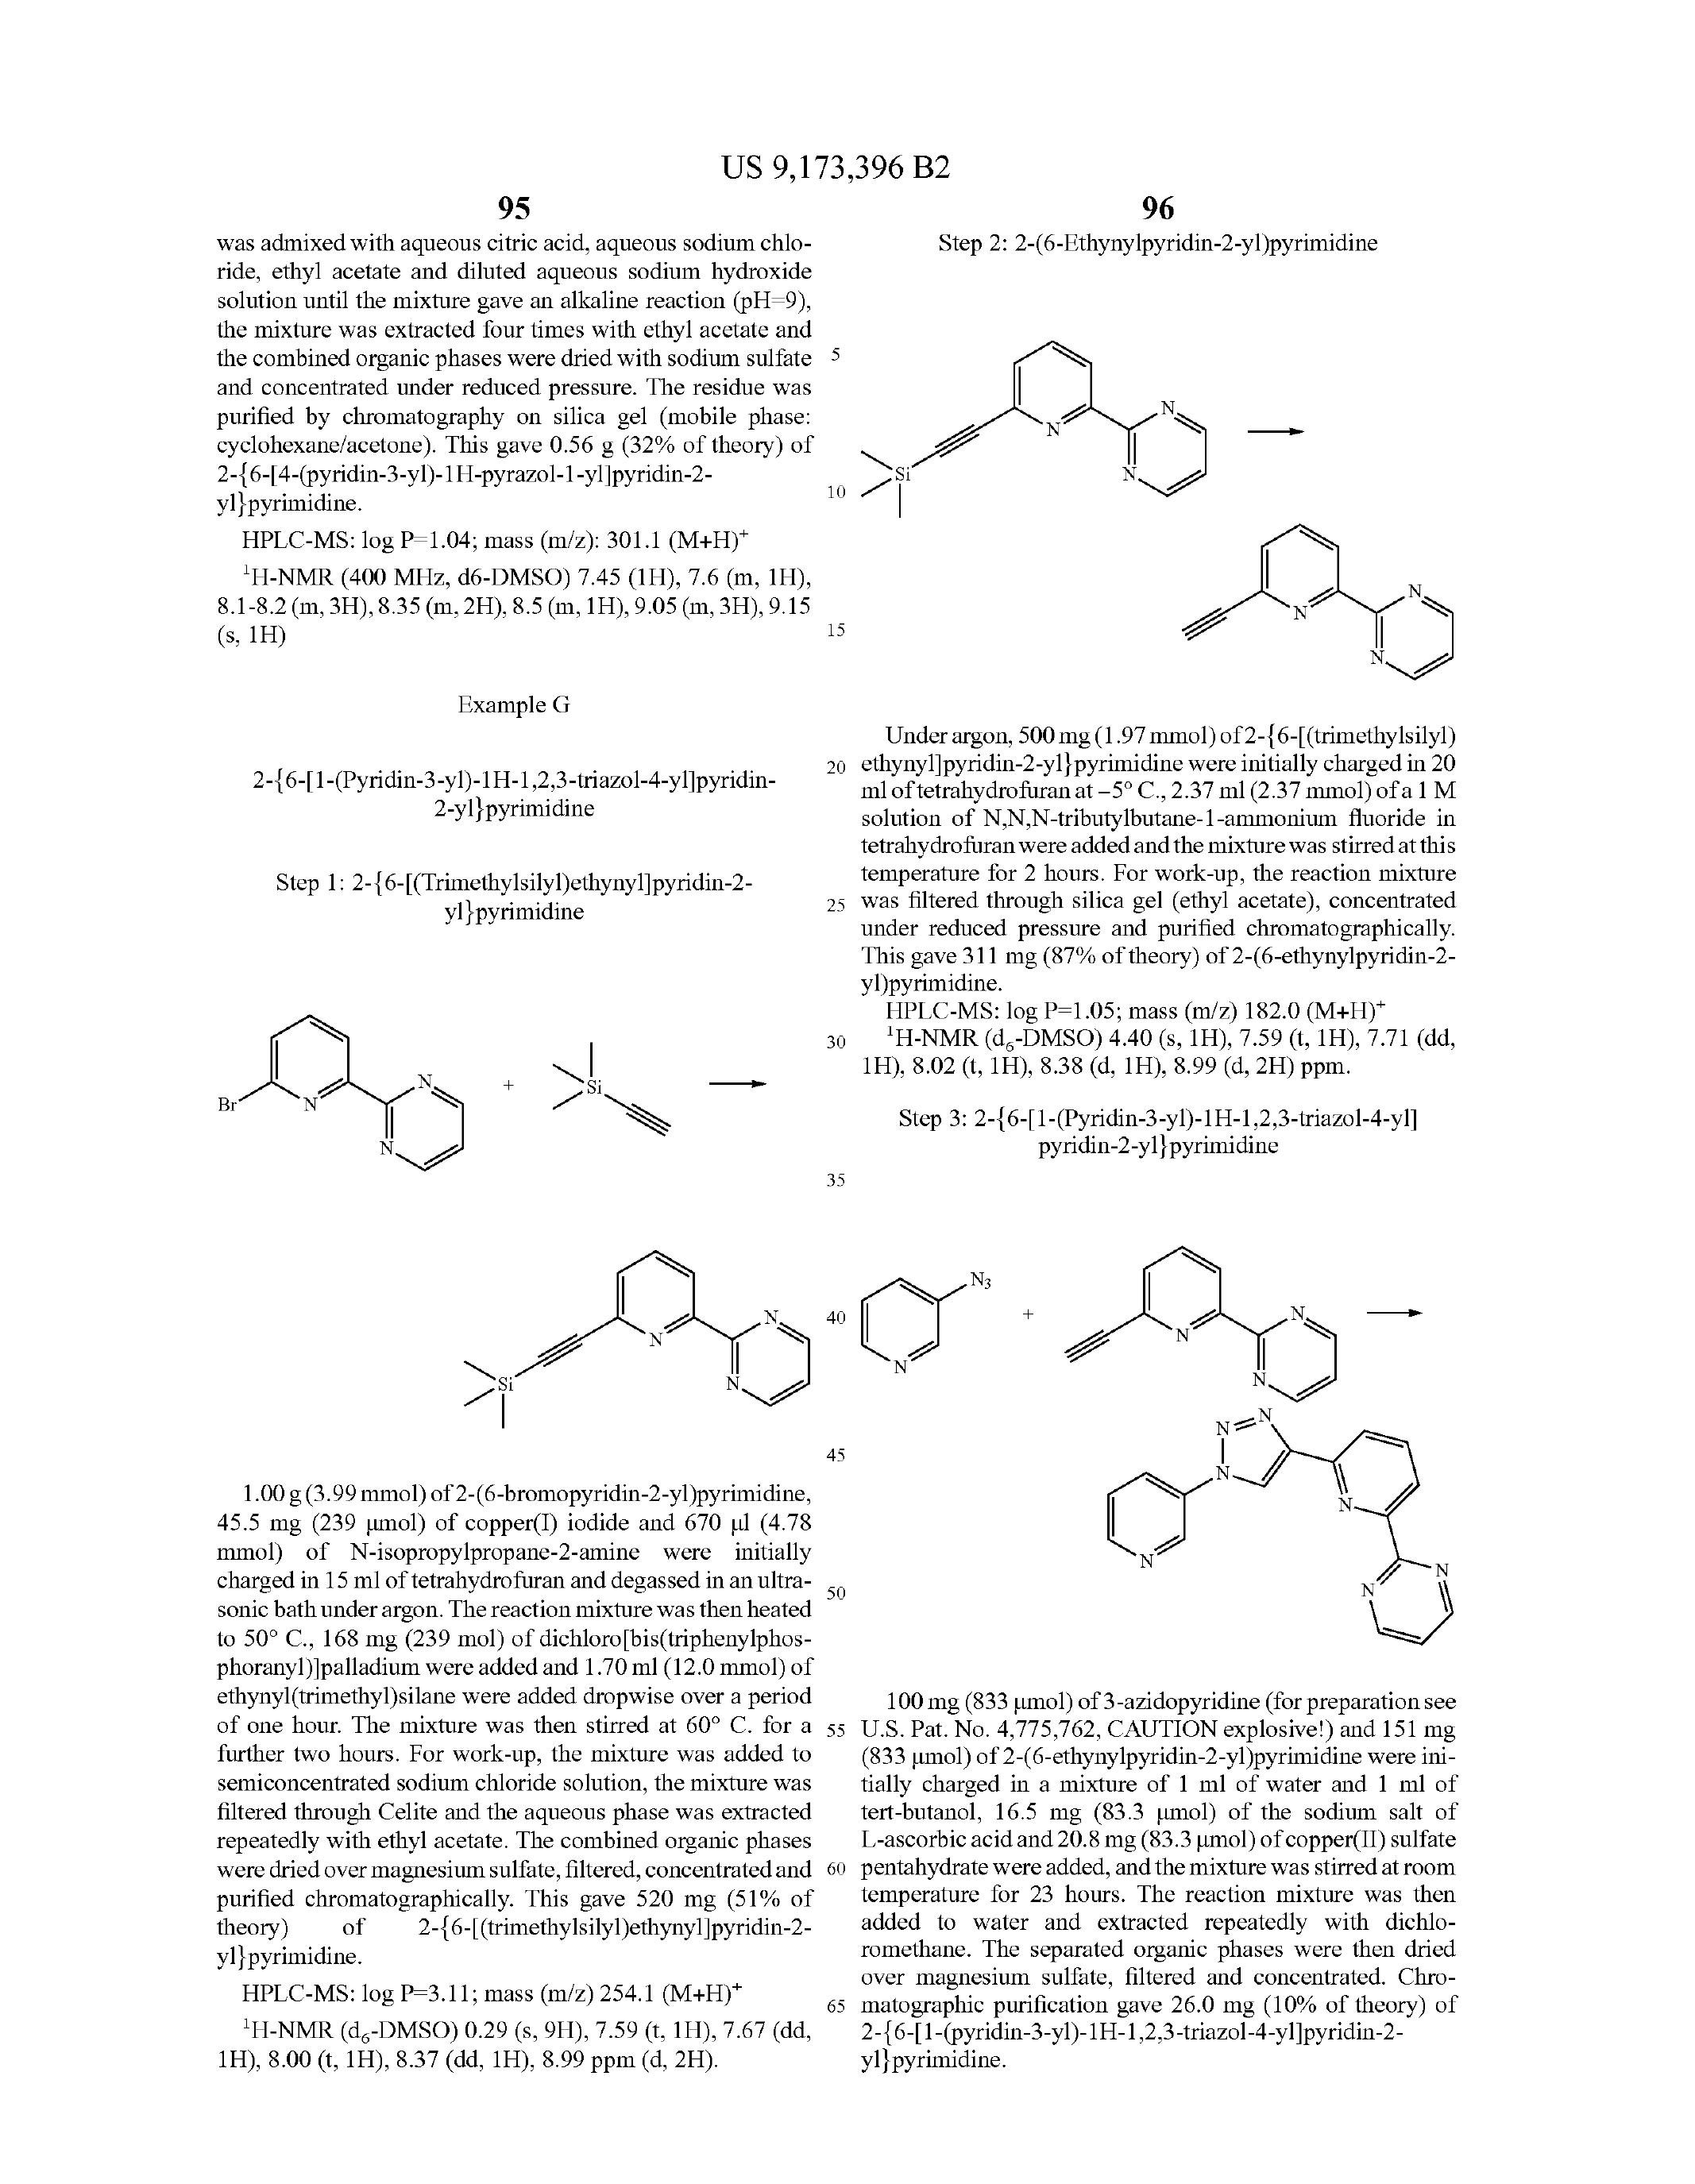reactions: (878, 298, 1484, 682)
